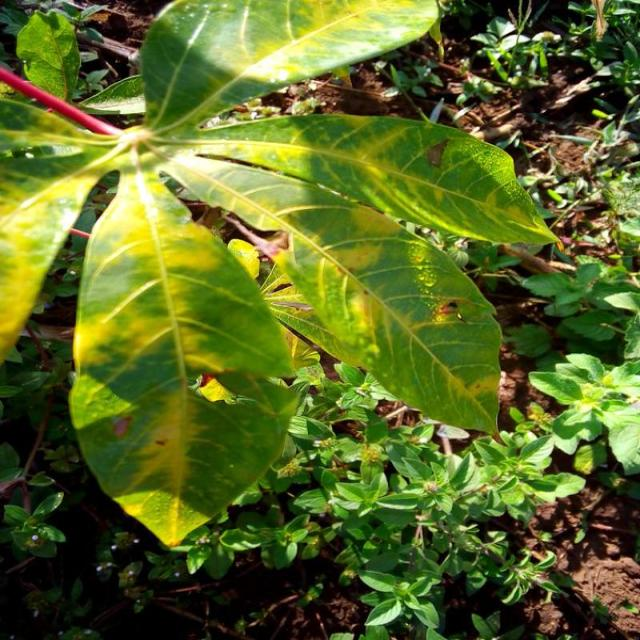cassava leaf: (1, 1, 562, 549), (158, 146, 504, 439), (69, 166, 301, 550), (178, 110, 563, 249), (139, 0, 442, 138)
